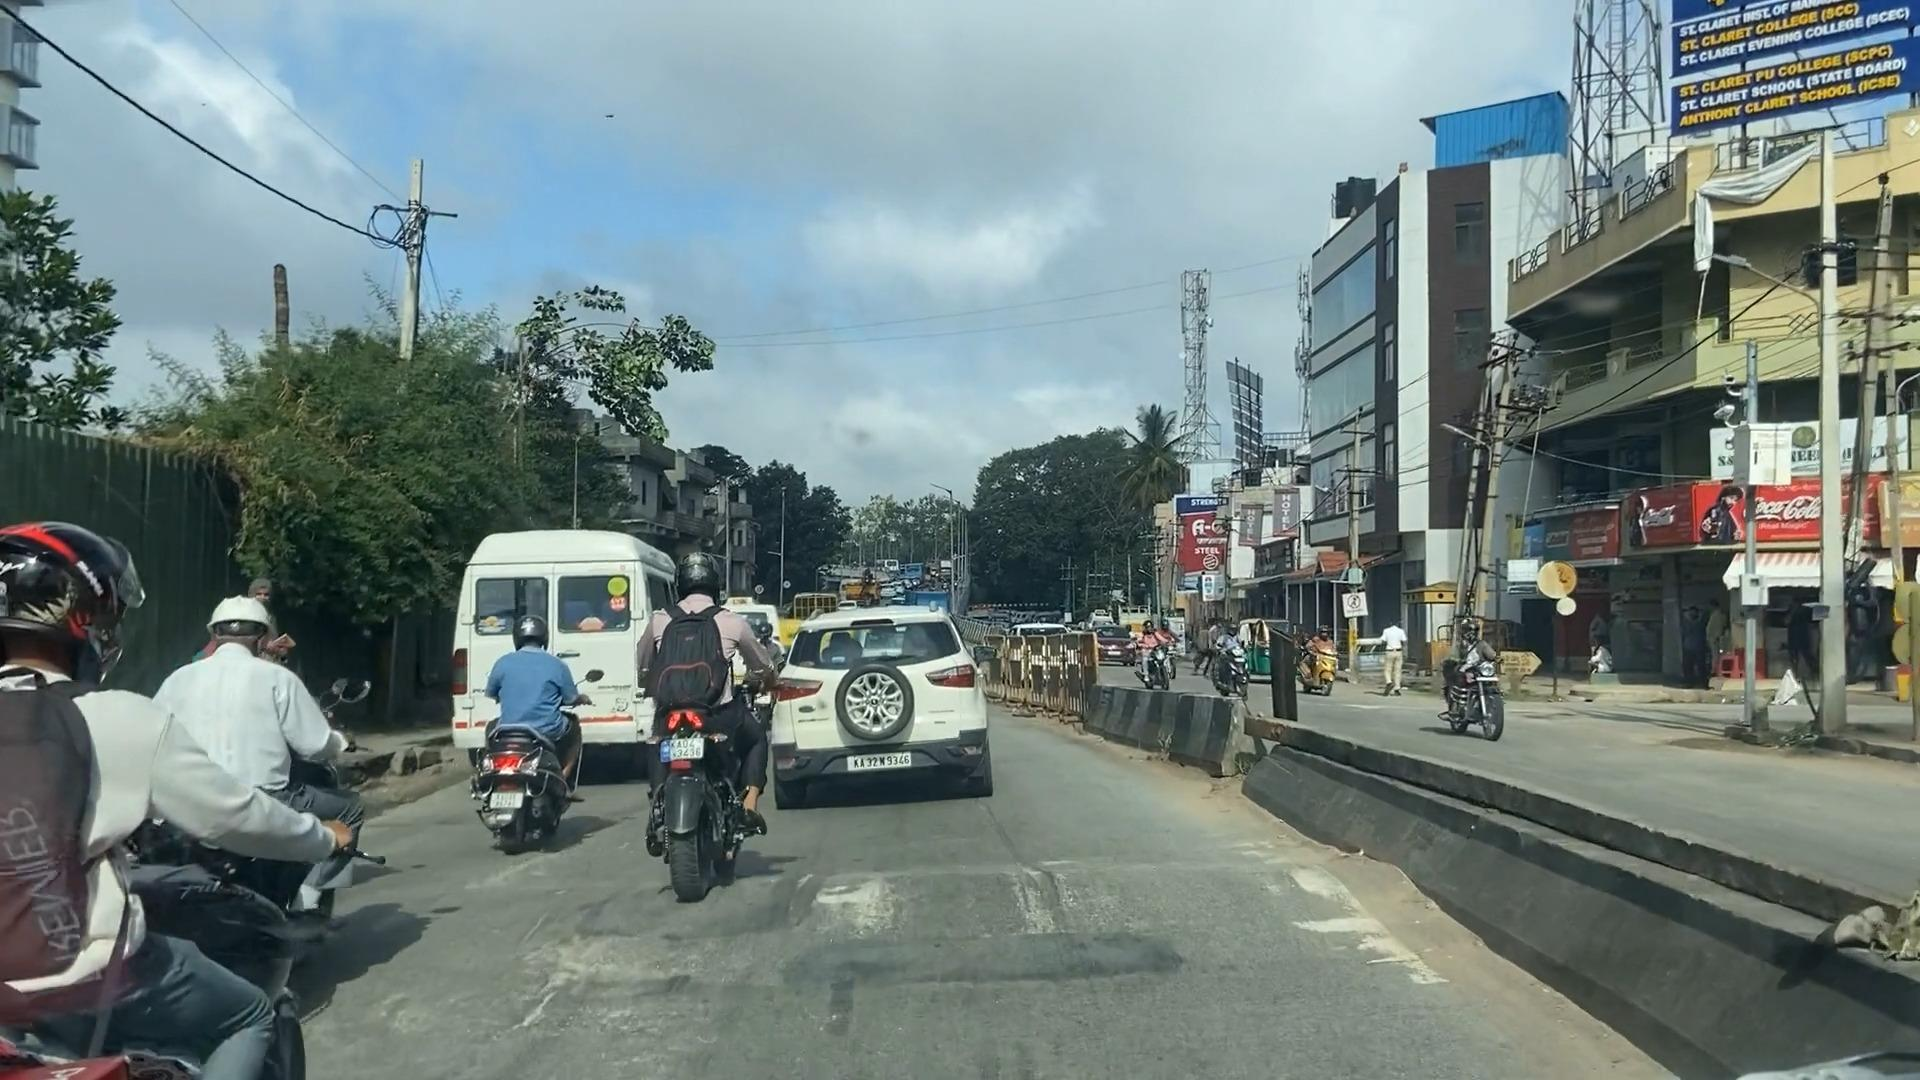HMV: (458, 542, 651, 762)
LMV: (634, 572, 758, 864), (786, 620, 992, 787), (483, 638, 585, 840)
SpeedBump: (425, 835, 1402, 992)
